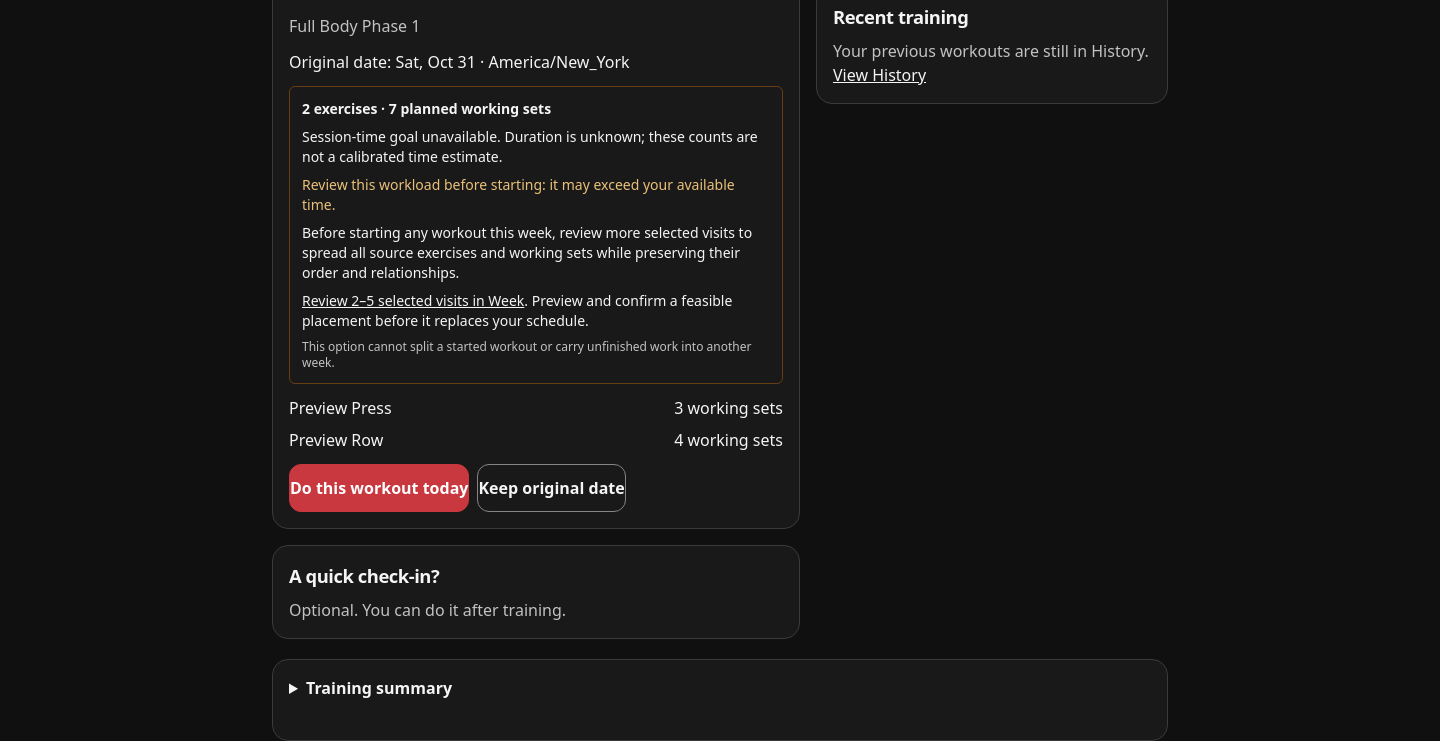
Test case: move needs explicit confirmation of exact reviewed snapshot and refreshes Home once
(page scrolled)
Click the button "Do this workout today" at [379, 488], box x1=289 y1=464 x2=469 y2=512
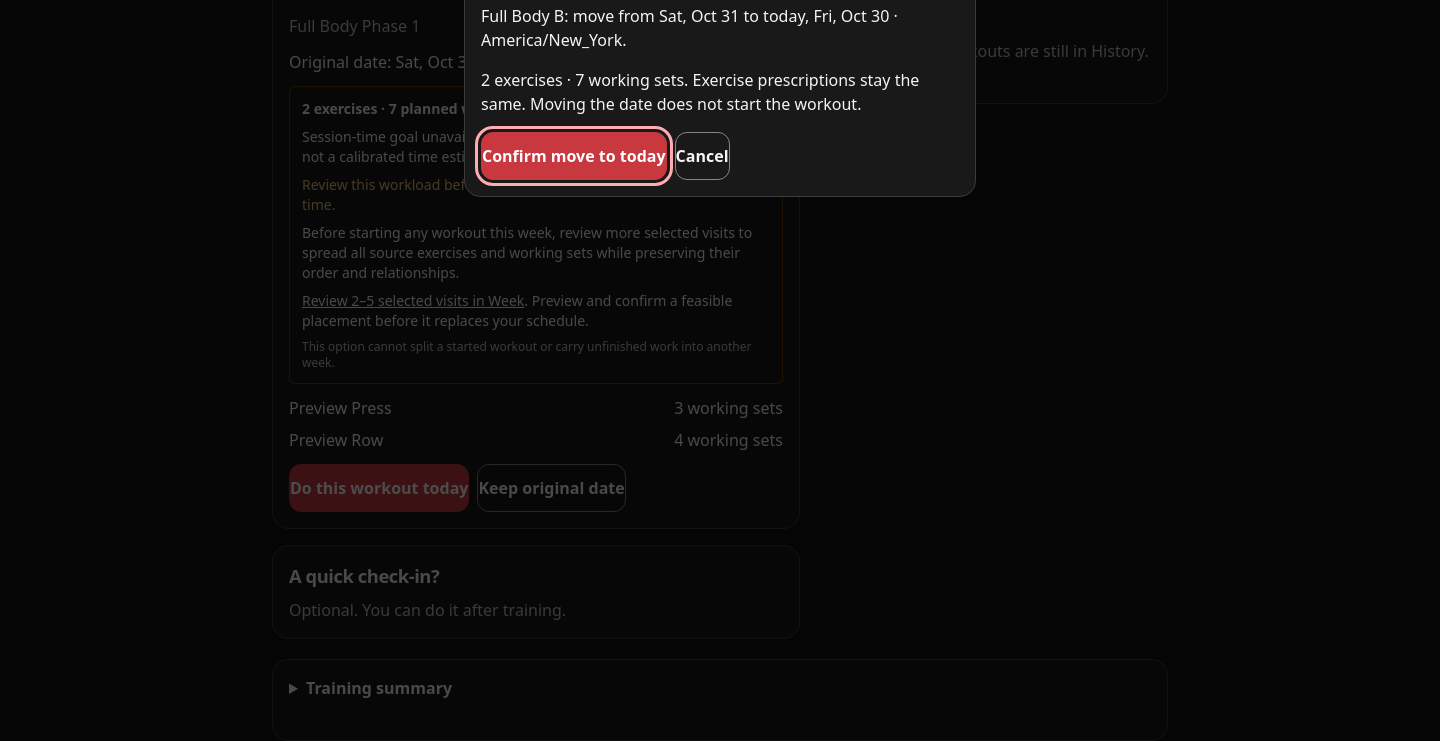
Expected: the text "America/New_York" is shown, x1=481 y1=29 x2=622 y2=51
Click the button "Confirm move to today" at [574, 156], box x1=481 y1=132 x2=667 y2=180
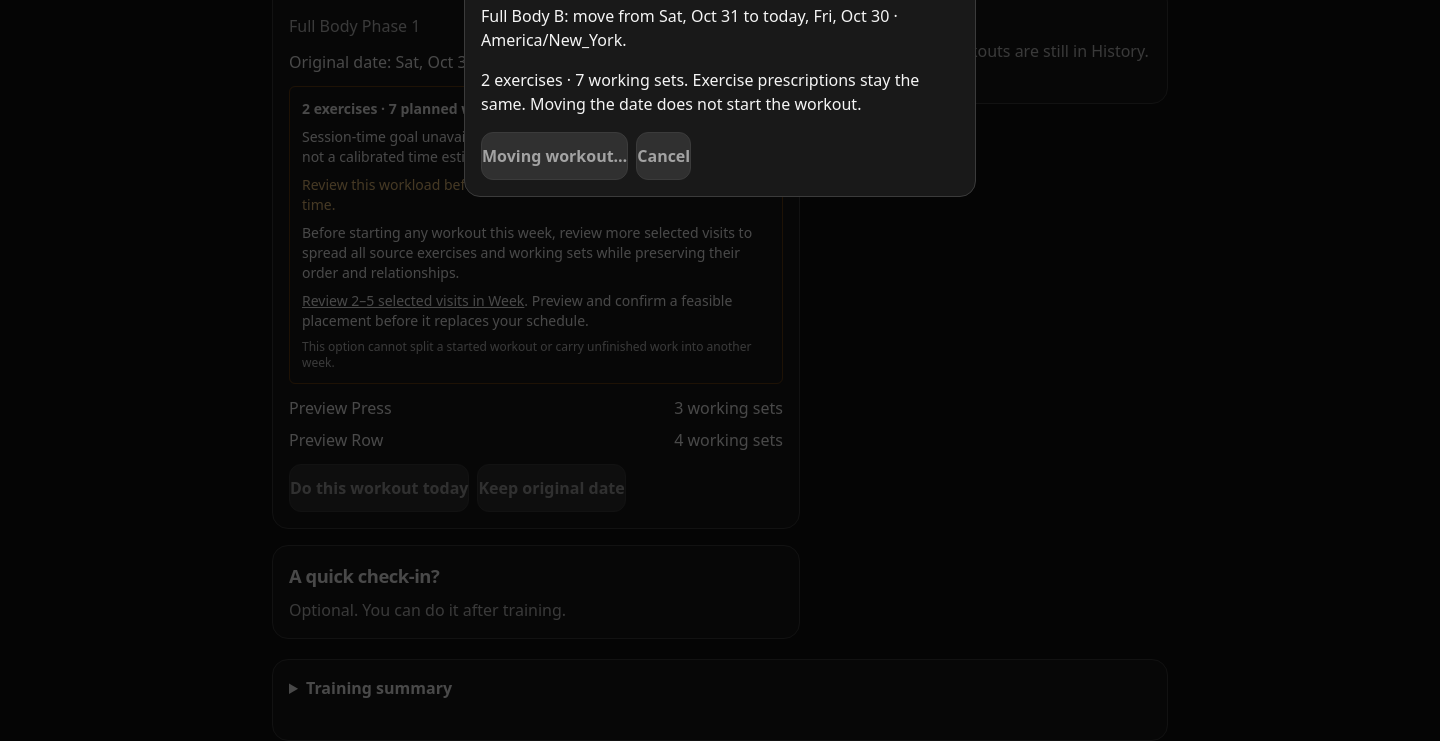
Click the button named "Confirm move to today" at [555, 156], box x1=481 y1=132 x2=628 y2=180
(page scrolled)
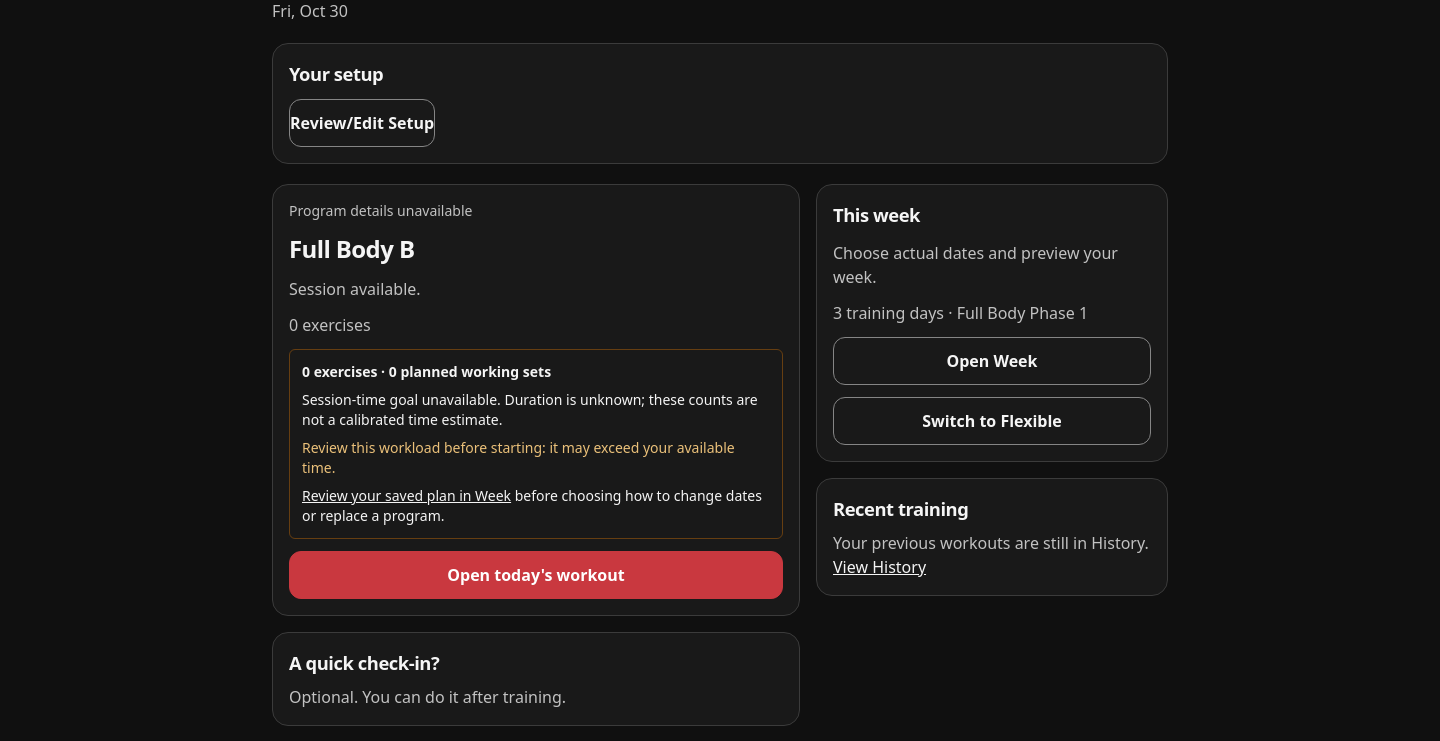
Expected: the link "Open today's workout" is shown, x1=289 y1=551 x2=783 y2=599
